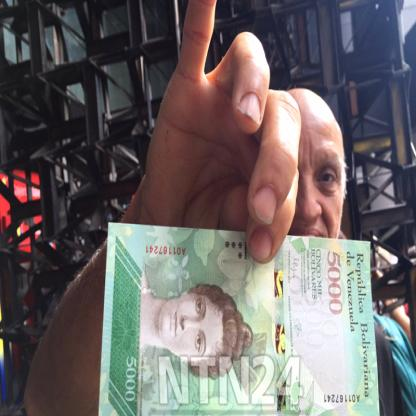billete: (98, 222, 378, 415)
